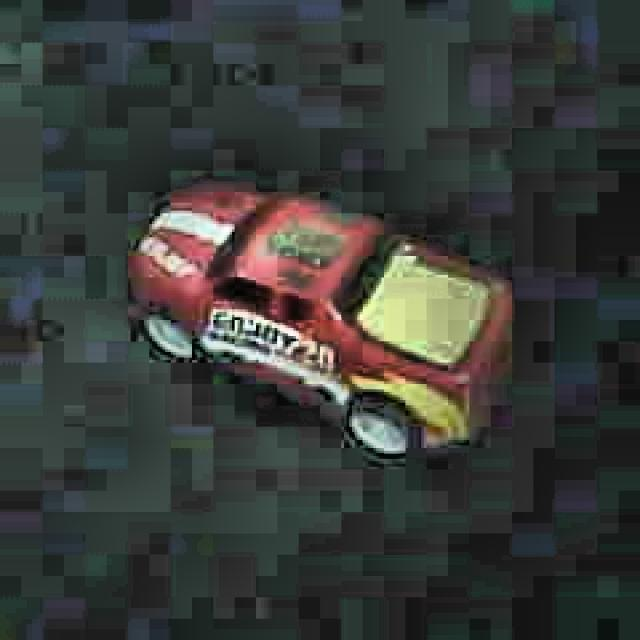car: (115, 173, 522, 482)
